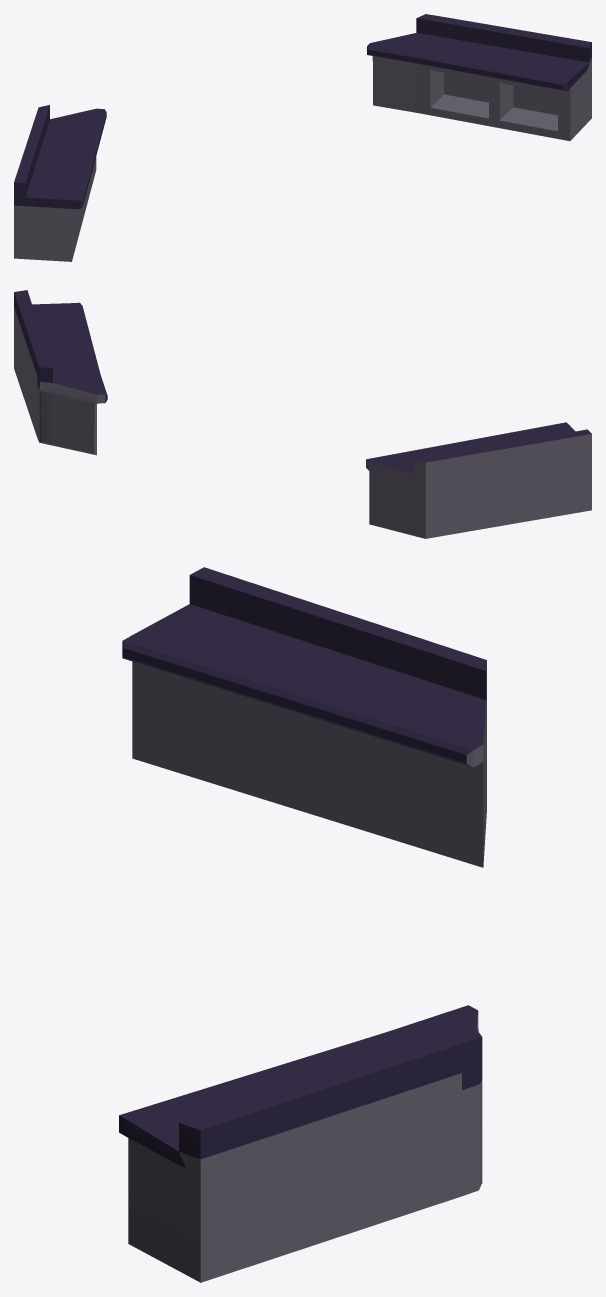
Rendered from counter_LR.fbx.
3 views of the same model, one above another, from view 1: azimuth 30°, elevation 25°; view 2: azimuth 150°, elevation 25°; view 3: azimuth 270°, elevation 25° (orthographic). The views are drawn at different scales.
Parts seen in each view (by area): view 1: counter_right, counter_left; view 2: counter_left, counter_right; view 3: counter_left, counter_right.
Boxes of the visible parts, bbox=[...] form: counter_right: bbox=[367, 14, 591, 140]; counter_left: bbox=[14, 105, 106, 261]; counter_left: bbox=[366, 422, 591, 538]; counter_right: bbox=[14, 290, 107, 455]; counter_left: bbox=[122, 567, 486, 867]; counter_right: bbox=[119, 1005, 482, 1282].
Bounding box in the file's own units: 1041 × 131 × 287.
